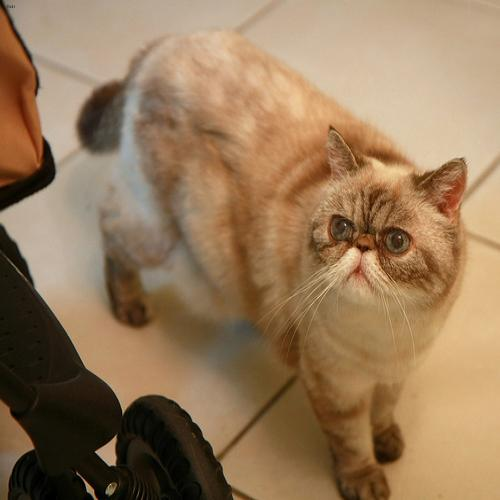persian: (297, 111, 482, 331)
